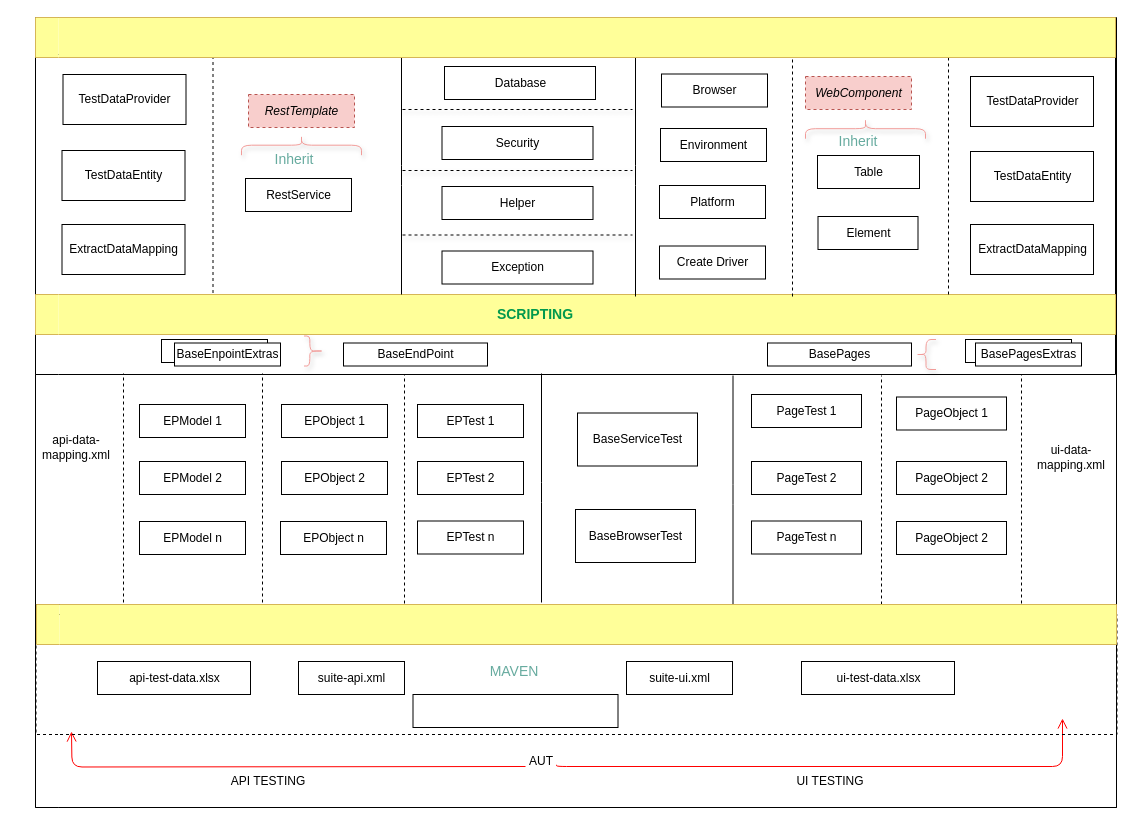
Image size: 1134x825. Some labels were removed from this diagram. The shapes that lost their labels are listed below. From the top down, each one's centre as x and y in pixels, then its label:
point 575,37: MAIN CORE FW
point 576,624: EXECUTION
point 515,711: (allure) Reporting | Logging (logback)
